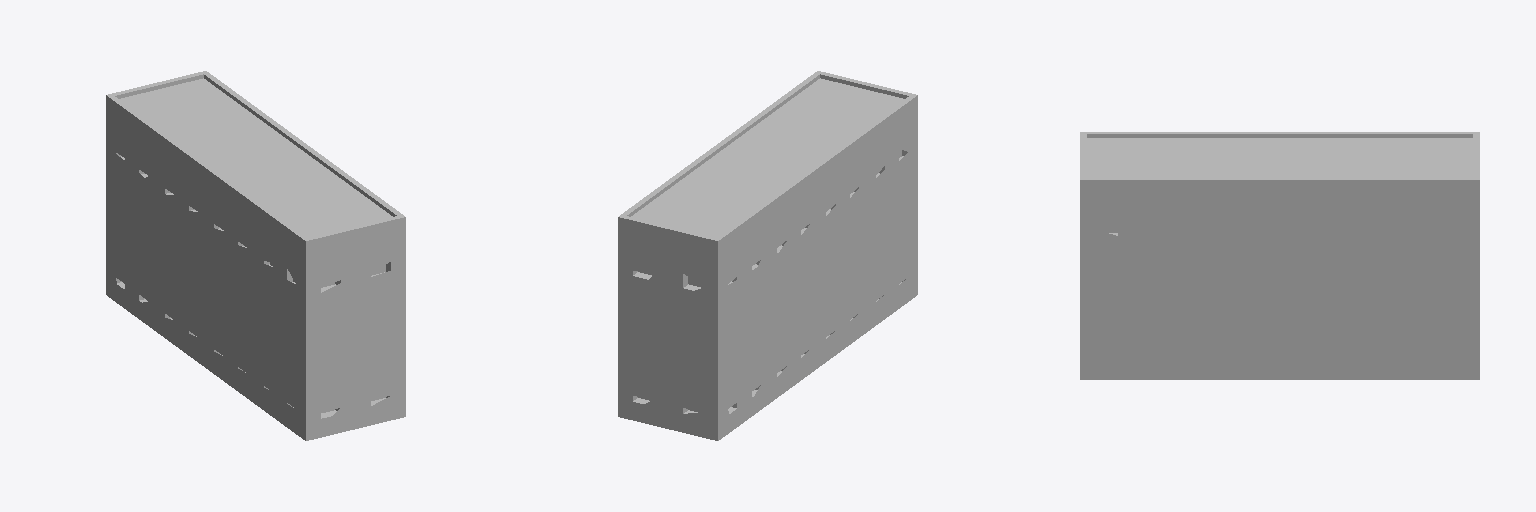
Rendered from Flats.obj.
3 views of the same model, side by side, from view 1: azimuth 30°, elevation 25°; view 2: azimuth 150°, elevation 25°; view 3: azimuth 270°, elevation 25° (orthographic).
Visible parts, largest first — view 1: group14_pasted__pCube1; view 2: group14_pasted__pCube1; view 3: group14_pasted__pCube1.
Boxes of the visible parts, box(x1,y1,x2,y2) form: group14_pasted__pCube1: box(106, 71, 405, 440); group14_pasted__pCube1: box(618, 71, 917, 440); group14_pasted__pCube1: box(1080, 132, 1479, 379).
Bounding box in the file's own units: 6.7 × 12.79 × 23.16.